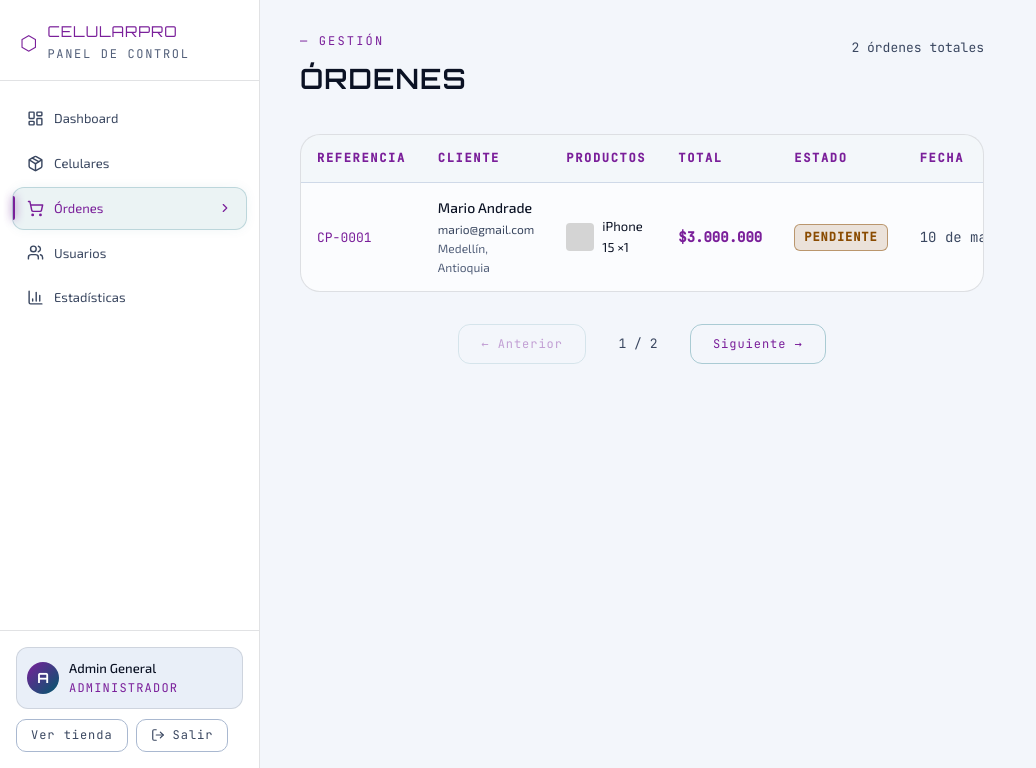
GET /orders — listado de admin › admin → lista paginada con cliente, productos y estado
The image size is (1036, 768).
Step 1. Click the button "Siguiente →" → coordinates (758, 344), box x1=690 y1=324 x2=826 y2=364
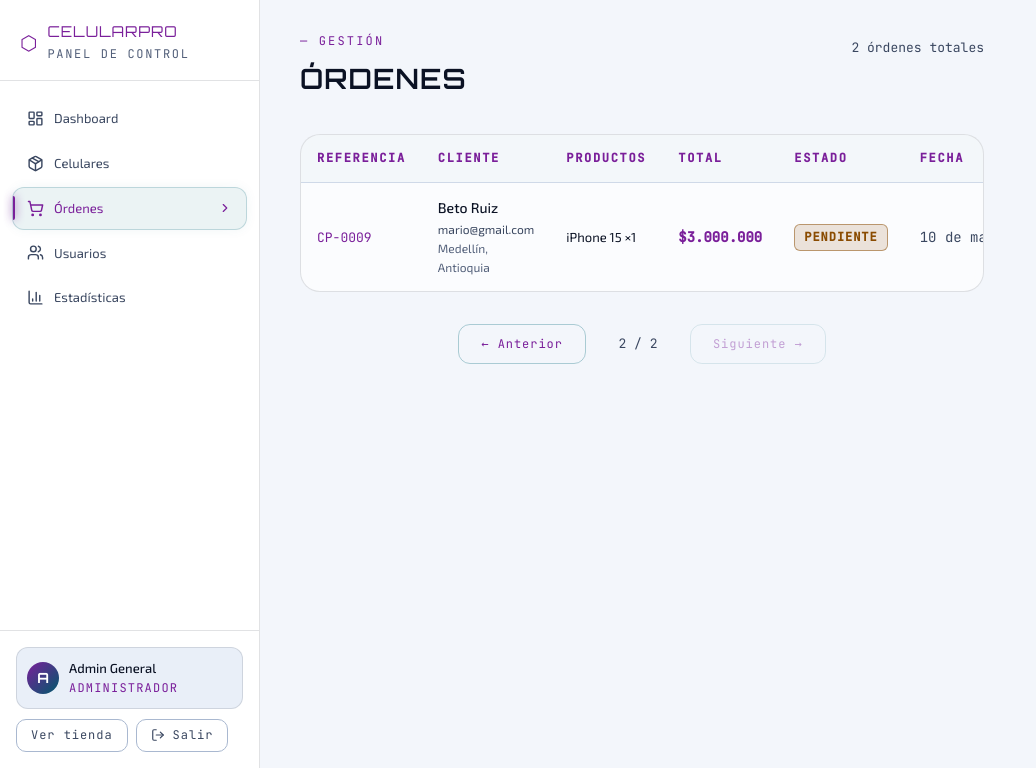
expect the text "2 órdenes totales" is shown: met, box x1=851 y1=32 x2=984 y2=59
expect the text "CP-0009" is shown: met, box x1=317 y1=229 x2=372 y2=246
